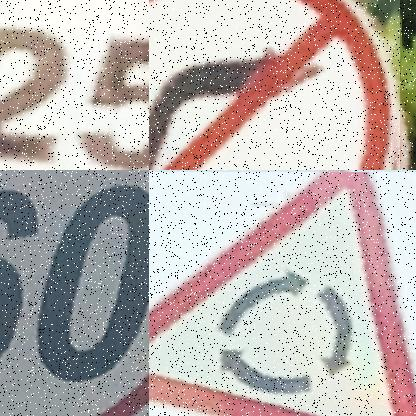No right turn: (149, 0, 399, 170)
Roundabout Ahead: (149, 172, 416, 416)
Speed Limit -25 kmph-: (0, 0, 149, 170)
Speed Limit -60 kmph-: (0, 170, 149, 416)
